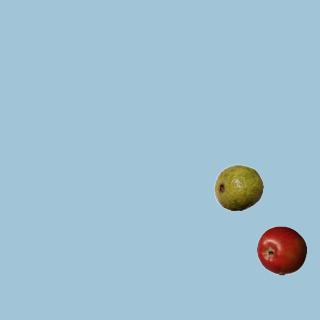Apple Braeburn: (256, 225, 306, 275)
Guava: (213, 162, 263, 212)
